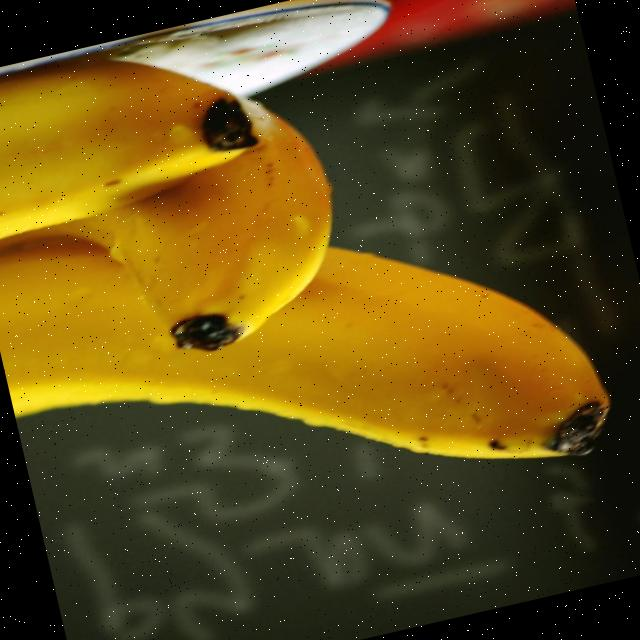banana: (0, 227, 611, 458)
